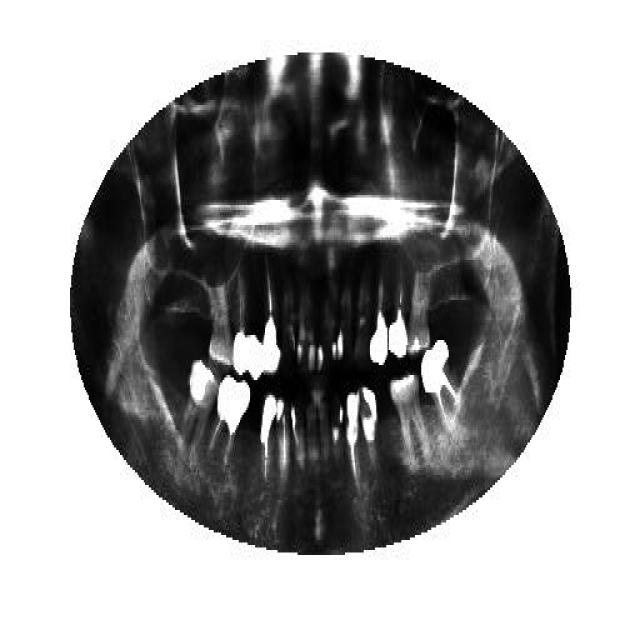Fillings: (179, 358, 219, 452), (232, 265, 248, 377), (360, 385, 378, 477), (246, 330, 264, 382)
Implant: (209, 373, 250, 465), (421, 338, 460, 428), (261, 253, 280, 375), (369, 262, 389, 368), (389, 258, 409, 360), (345, 390, 361, 490), (260, 390, 276, 482), (276, 395, 292, 477)
